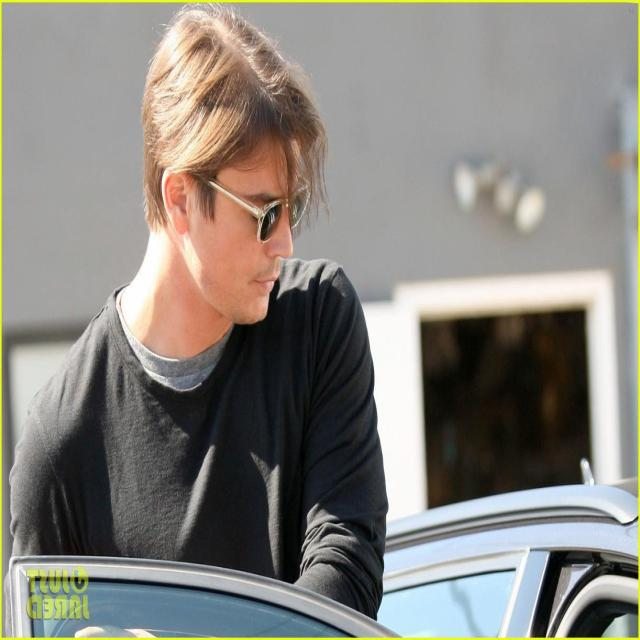no-earmuff: (160, 166, 190, 234)
